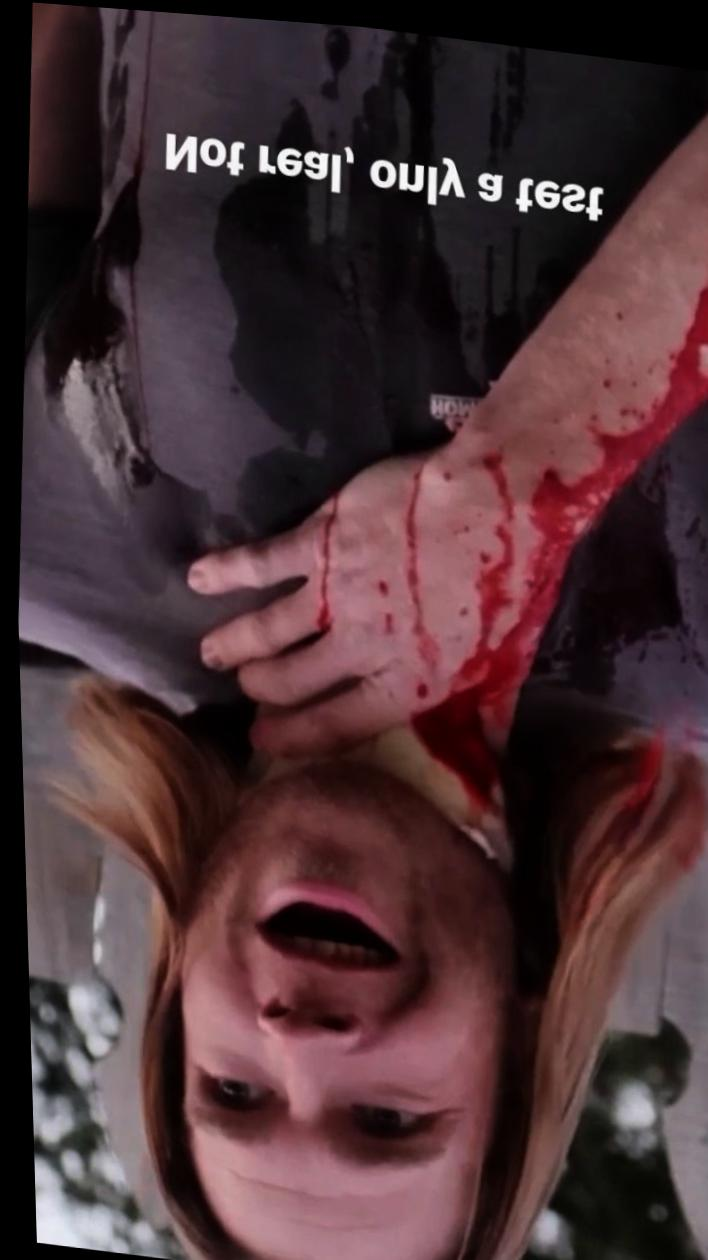Fire: (450, 270, 708, 739), (529, 442, 678, 685), (359, 440, 464, 716), (407, 682, 495, 803), (297, 486, 336, 627)
